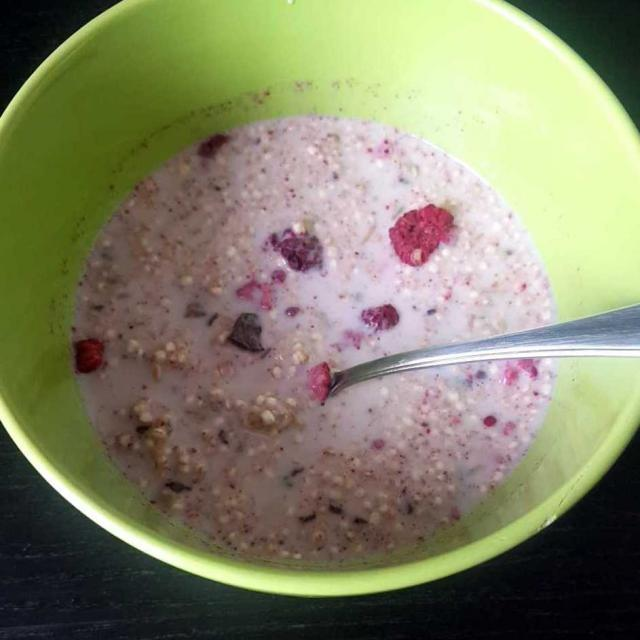oats: (62, 133, 550, 558)
